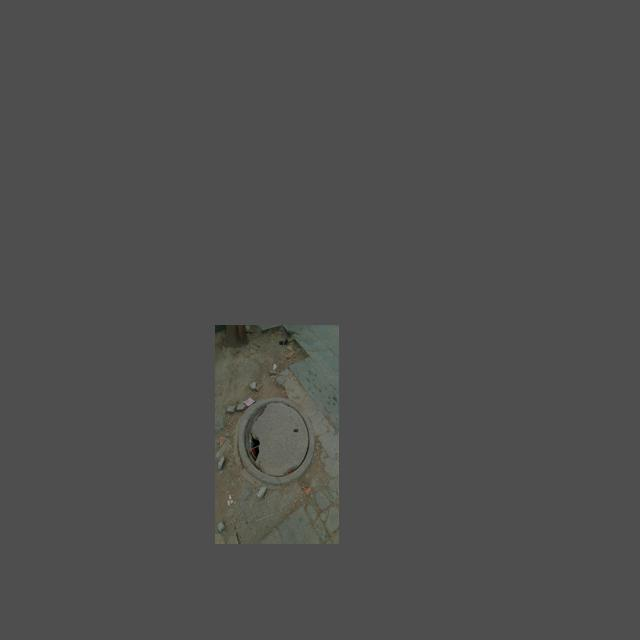broke: (238, 397, 316, 486)
